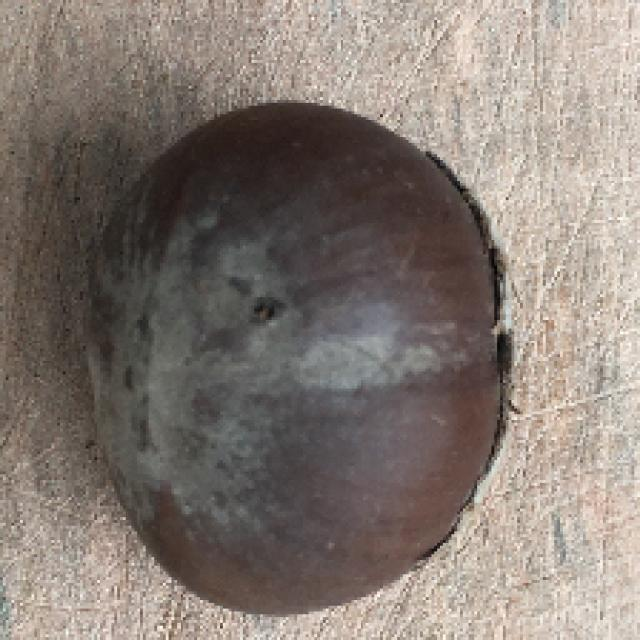damagedHazelnut: (75, 91, 507, 615)
